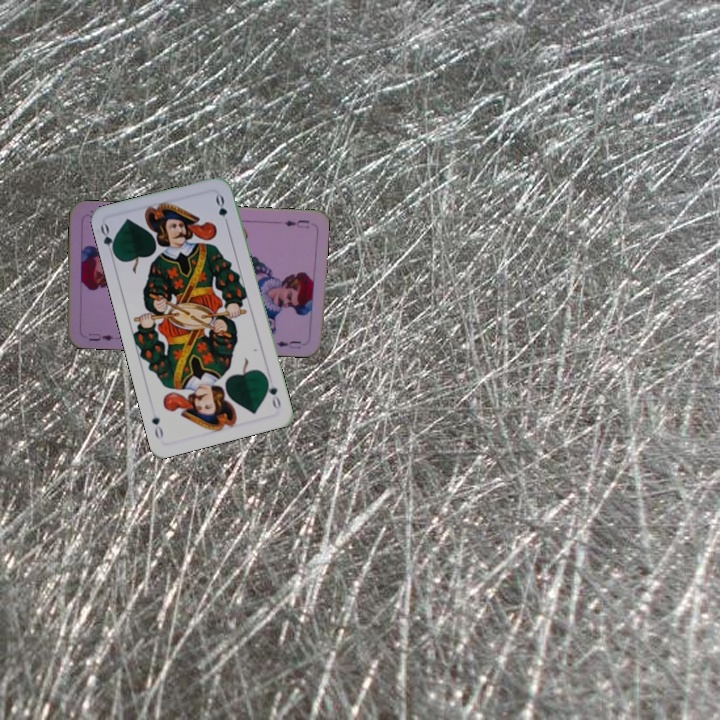EU: (280, 216, 312, 231), (85, 329, 116, 344)
GO: (96, 220, 119, 261), (262, 372, 283, 412)
